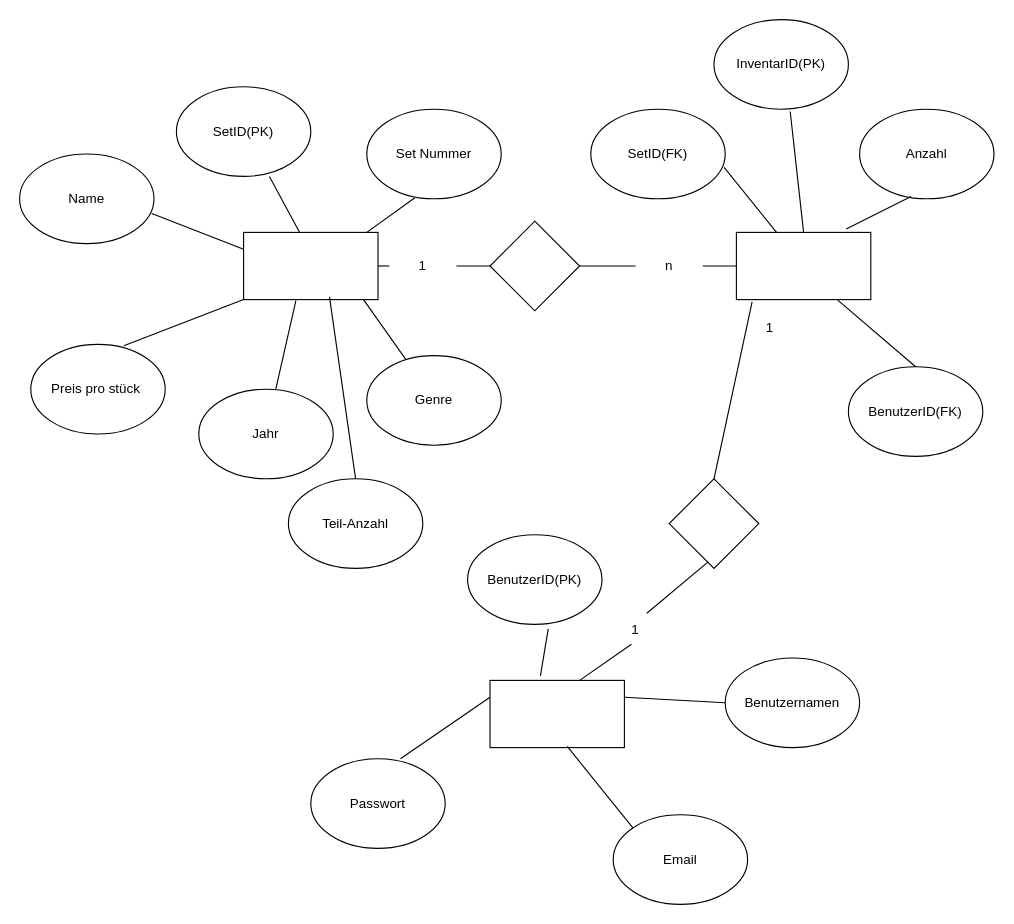
This 1014x924 diagram has some shape labels left out. The centre of each missing label's shape, as x and y in pixels:
"API Daten" goes at (x=310, y=265).
"Benutzer" goes at (x=556, y=713).
"erhält" goes at (x=534, y=265).
"hat" goes at (x=713, y=523).
"Inventar" goes at (x=803, y=265).
